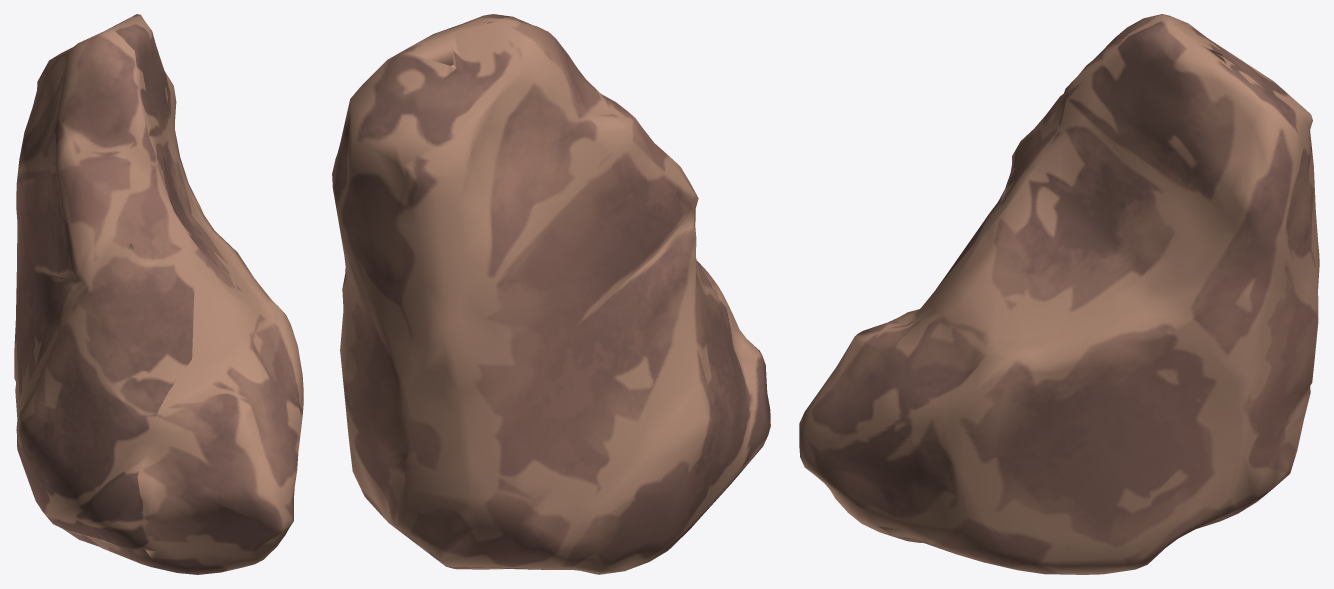
Rendered from Rock_E.FBX.
The picture shows the model from 3 angles, left to right: view 1: azimuth 30°, elevation 25°; view 2: azimuth 150°, elevation 25°; view 3: azimuth 270°, elevation 25°; orthographic projection. The views are drawn at different scales.
Parts seen in each view (by area): view 1: Rock_E; view 2: Rock_E; view 3: Rock_E.
Boxes of the visible parts, x1,y1,x2,y2 form: Rock_E: (14,14,303,574); Rock_E: (332,14,770,574); Rock_E: (799,14,1319,574).
Bounding box in the file's own units: 50.41 × 93.85 × 85.03.
